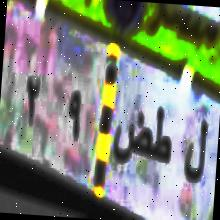2: (22, 71, 42, 128)
9: (65, 88, 86, 148)
Taa: (150, 102, 174, 176)
daad: (112, 104, 154, 170)
laam: (182, 114, 208, 195)
